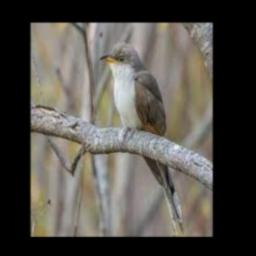Cuckoo: (99, 42, 186, 234)
